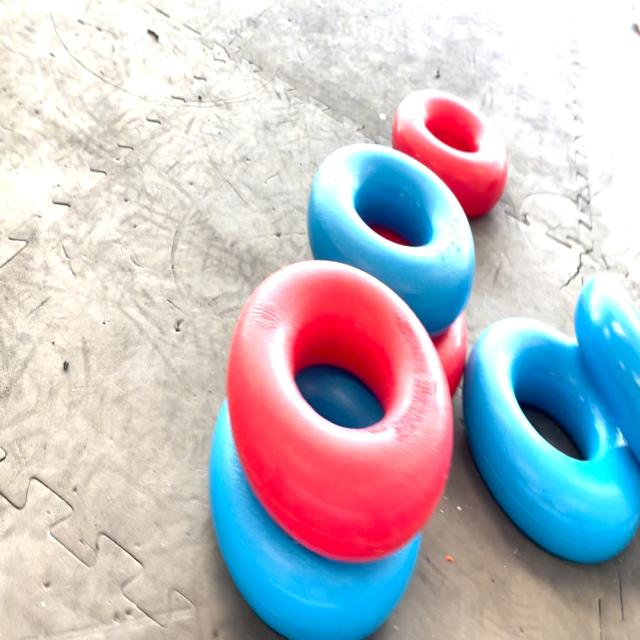Blue-Ring: (210, 400, 421, 639), (464, 318, 640, 562), (308, 144, 475, 336), (575, 273, 640, 462)
Red-Ring: (226, 260, 452, 562), (392, 89, 508, 218), (432, 317, 473, 407)
